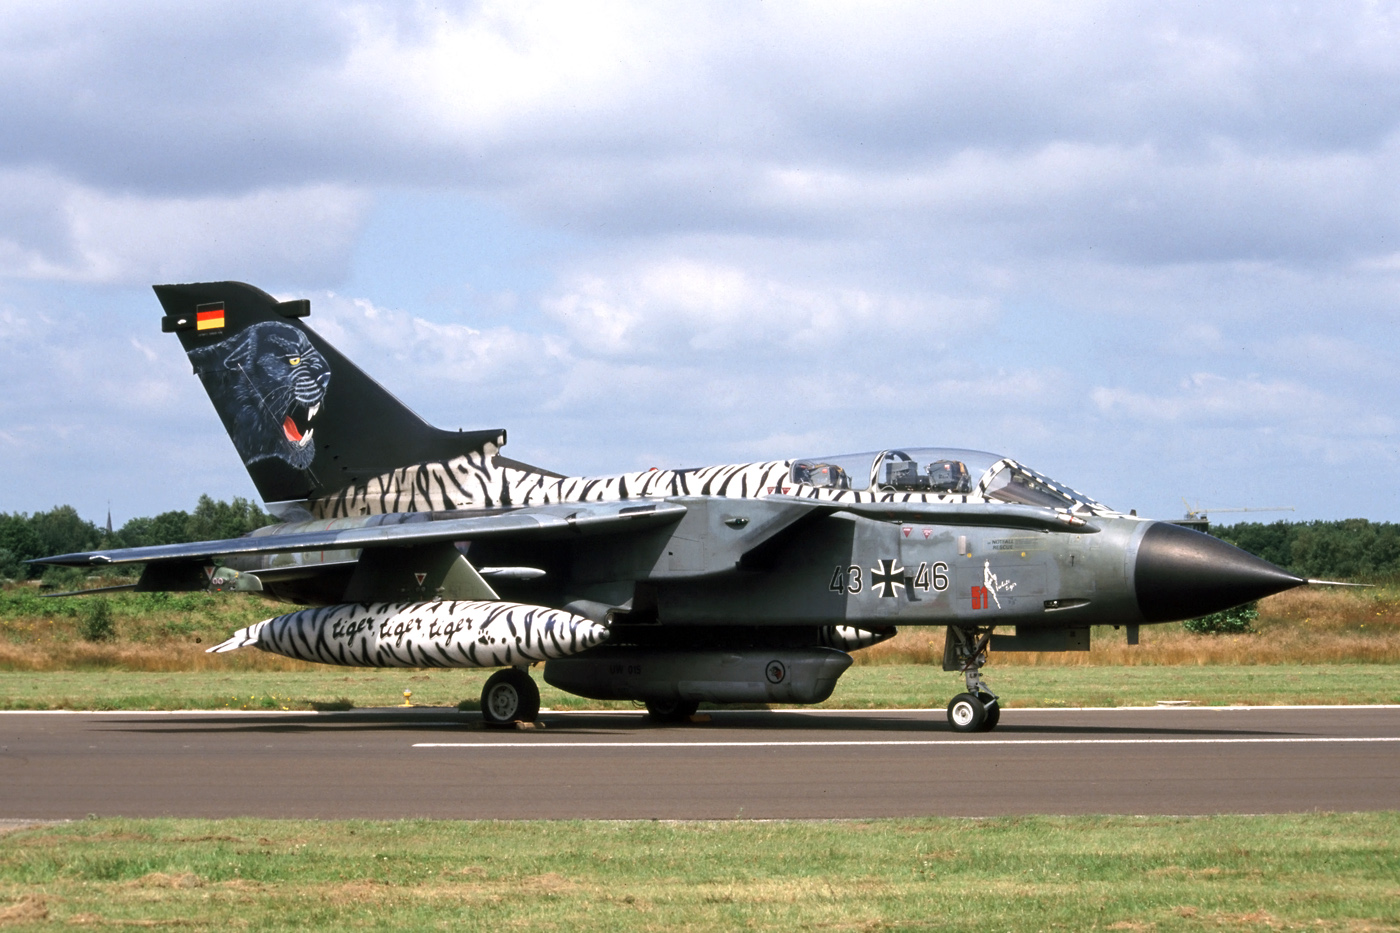Tornado: (19, 280, 1376, 733)
